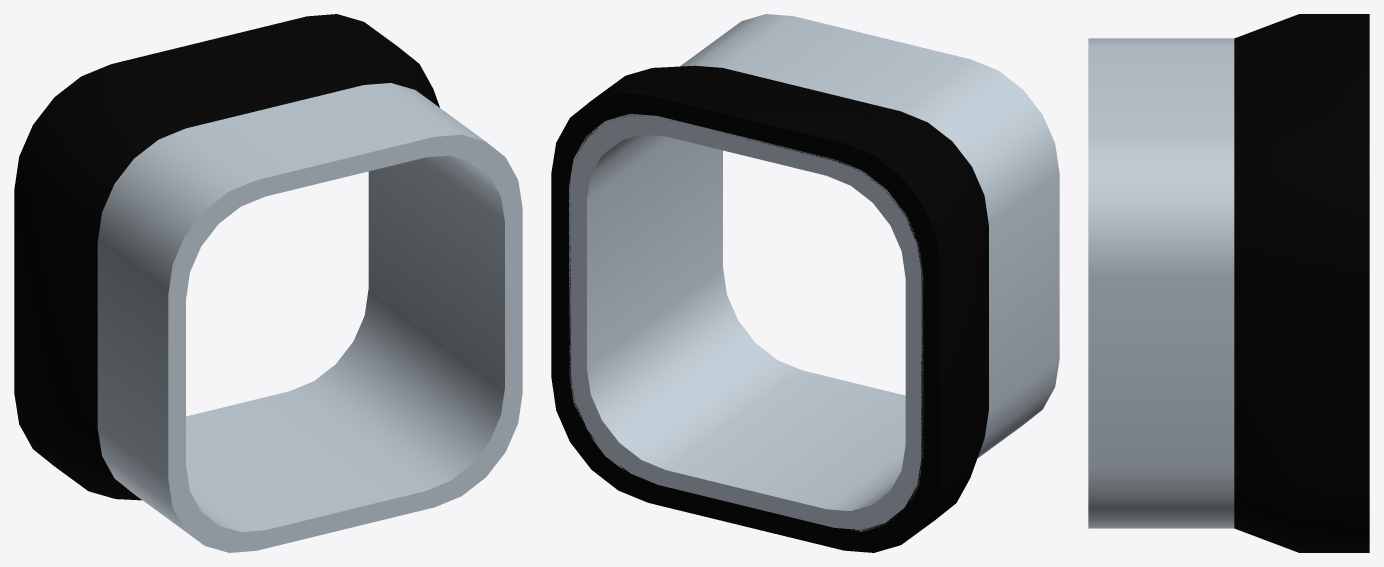
File: Glass_Tube 1.fbx
3 renders of one model, left to right at view 1: azimuth 30°, elevation 25°; view 2: azimuth 150°, elevation 25°; view 3: azimuth 270°, elevation 25°, orthographic. The views are drawn at different scales.
Visible parts, largest first — view 1: Glass Tube, Rim; view 2: Glass Tube, Rim; view 3: Glass Tube, Rim.
Part boxes in pixels (x1,y1,x2,y2): Glass Tube: [97, 83, 522, 552]; Rim: [14, 14, 439, 500]; Glass Tube: [569, 14, 1059, 531]; Rim: [551, 65, 988, 552]; Glass Tube: [1088, 38, 1234, 528]; Rim: [1234, 14, 1369, 552].
Size of the model in its own units: 330 by 330 by 200.
